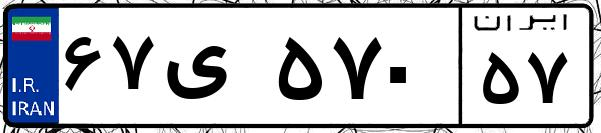0: (385, 28, 445, 110)
5: (270, 28, 330, 110), (475, 38, 525, 113)
6: (57, 26, 110, 100)
7: (330, 28, 385, 110), (525, 38, 570, 115), (110, 28, 158, 98)
ی: (158, 20, 270, 120)
